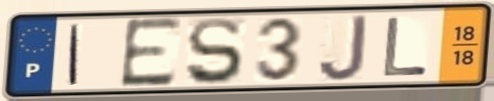3: (253, 15, 306, 84)
E: (117, 14, 185, 91)
I: (65, 22, 83, 87)
J: (316, 12, 370, 83)
L: (380, 15, 431, 79)
S: (184, 15, 246, 87)
